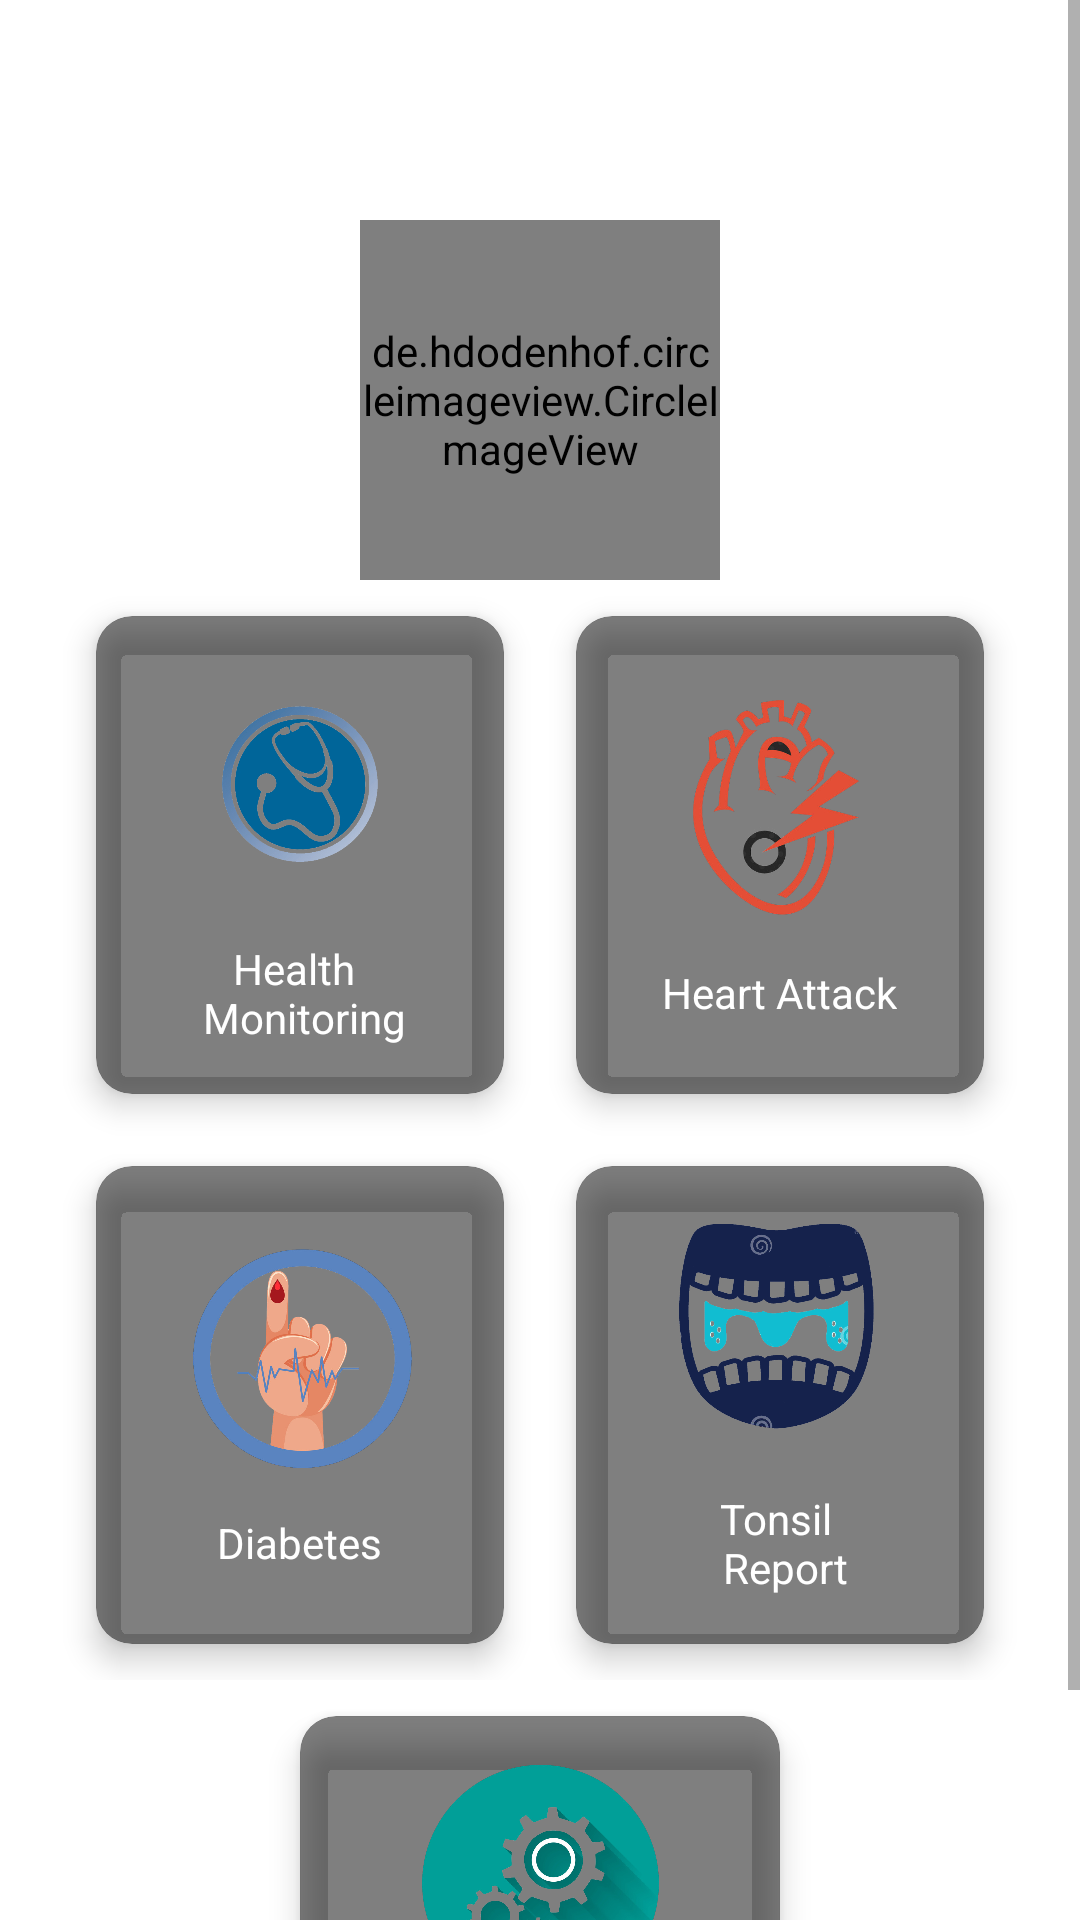

Named icons in this screenshot (1080*1920) and their centers, (x,y):
tonsils: (776,1326)
